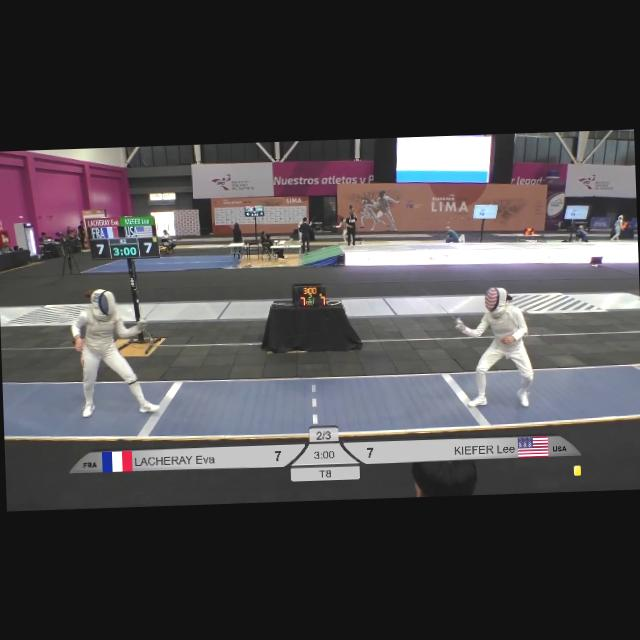blade: (414, 280, 464, 326), (138, 288, 175, 324)
